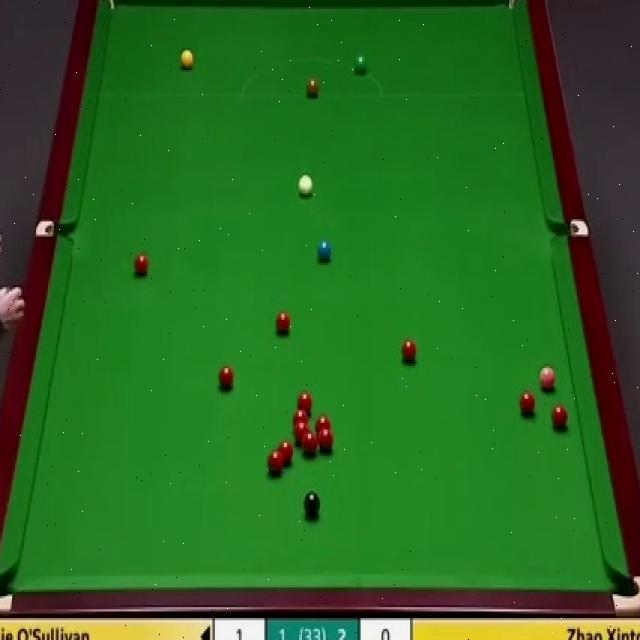black-ball: (303, 489, 321, 521)
blue-ball: (316, 238, 333, 261)
brown-ball: (306, 76, 320, 98)
green-ball: (353, 54, 368, 76)
pink-ball: (539, 364, 556, 392)
red-ball: (217, 364, 236, 394), (266, 450, 284, 477), (278, 442, 296, 469), (520, 391, 539, 416), (551, 405, 570, 429), (274, 312, 292, 336), (318, 428, 334, 454), (402, 338, 418, 364), (302, 430, 317, 456), (134, 253, 149, 278), (296, 392, 314, 409), (294, 423, 309, 443), (293, 408, 308, 426), (316, 417, 330, 432)
white-ball: (298, 173, 314, 201)
yellow-ball: (181, 50, 195, 72)
